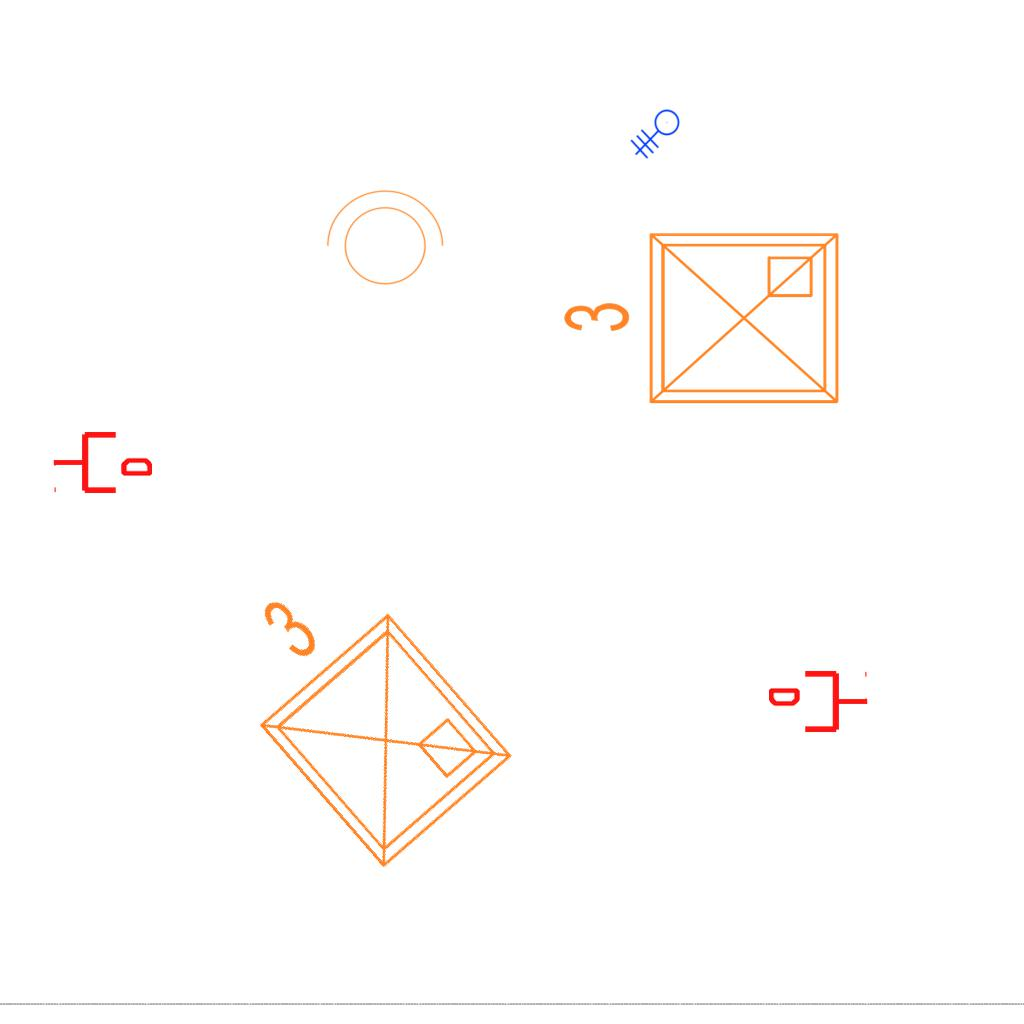Datenanschluss_einfach: (52, 428, 152, 497), (769, 667, 869, 736)
Einbaudownlights_LED_Konferenzraeume: (179, 530, 533, 894), (553, 218, 853, 426)
Elektroanschluss_allgemein_400V_Geraeteanschlussdose_400V: (630, 109, 688, 165)
Scheinwerfer_fuer_Alarmbeleuchtung: (316, 185, 448, 297)
